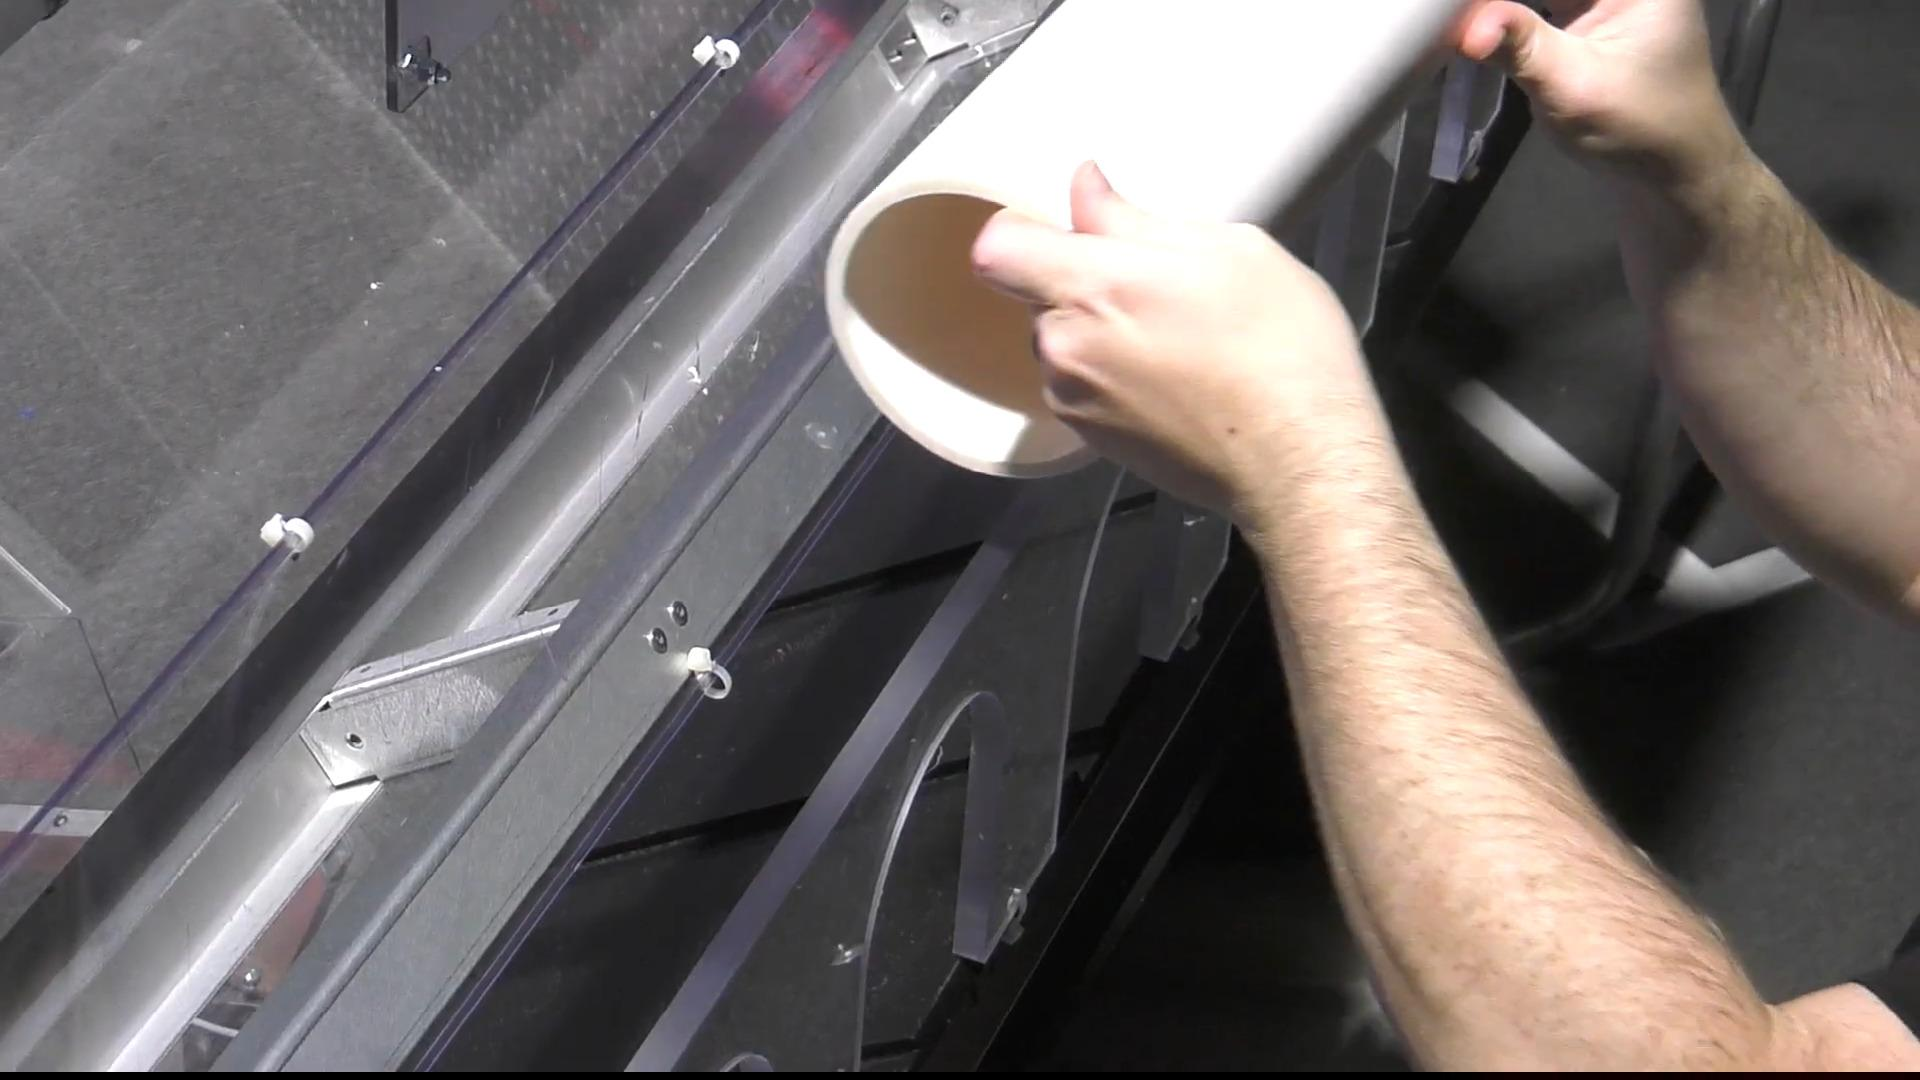coral: (821, 0, 1507, 483)
